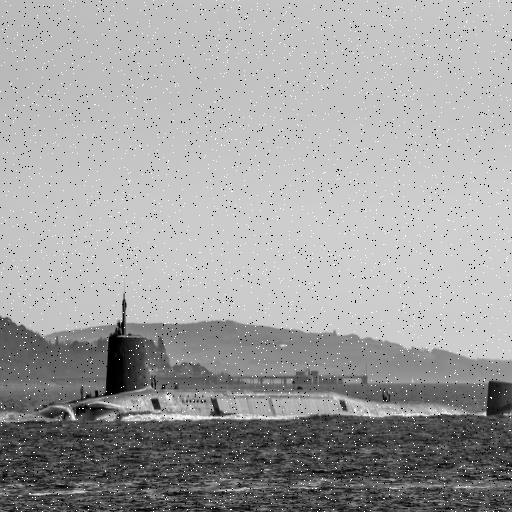submarine: (43, 287, 512, 421)
